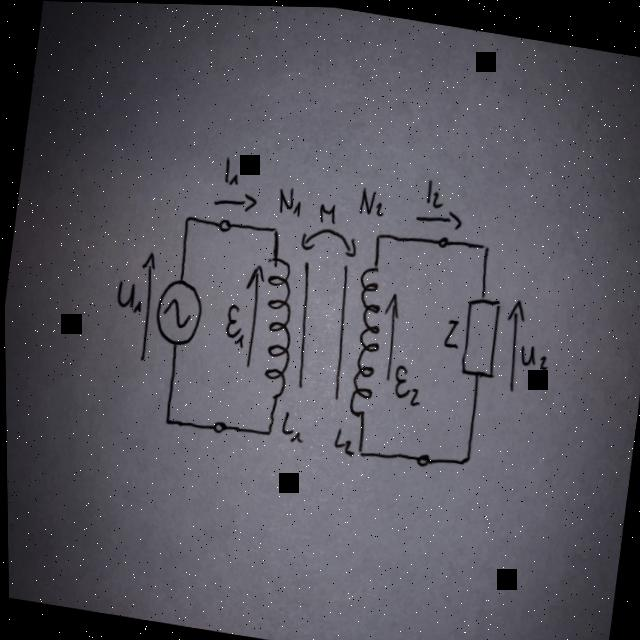junction: (458, 449, 471, 465), (178, 211, 191, 226), (353, 442, 366, 457), (477, 238, 490, 253), (371, 227, 384, 242), (268, 221, 280, 236), (261, 423, 272, 437), (160, 412, 171, 425)
resistor: (456, 290, 504, 378)
source: (149, 273, 205, 348)
text: (389, 362, 423, 404), (220, 300, 249, 348), (113, 278, 143, 312), (356, 183, 386, 216), (515, 340, 549, 369), (278, 408, 306, 441), (275, 183, 303, 216), (421, 172, 446, 208), (329, 424, 356, 456), (220, 153, 242, 185), (441, 314, 461, 347), (316, 199, 337, 223)
transformer: (245, 243, 391, 418)
